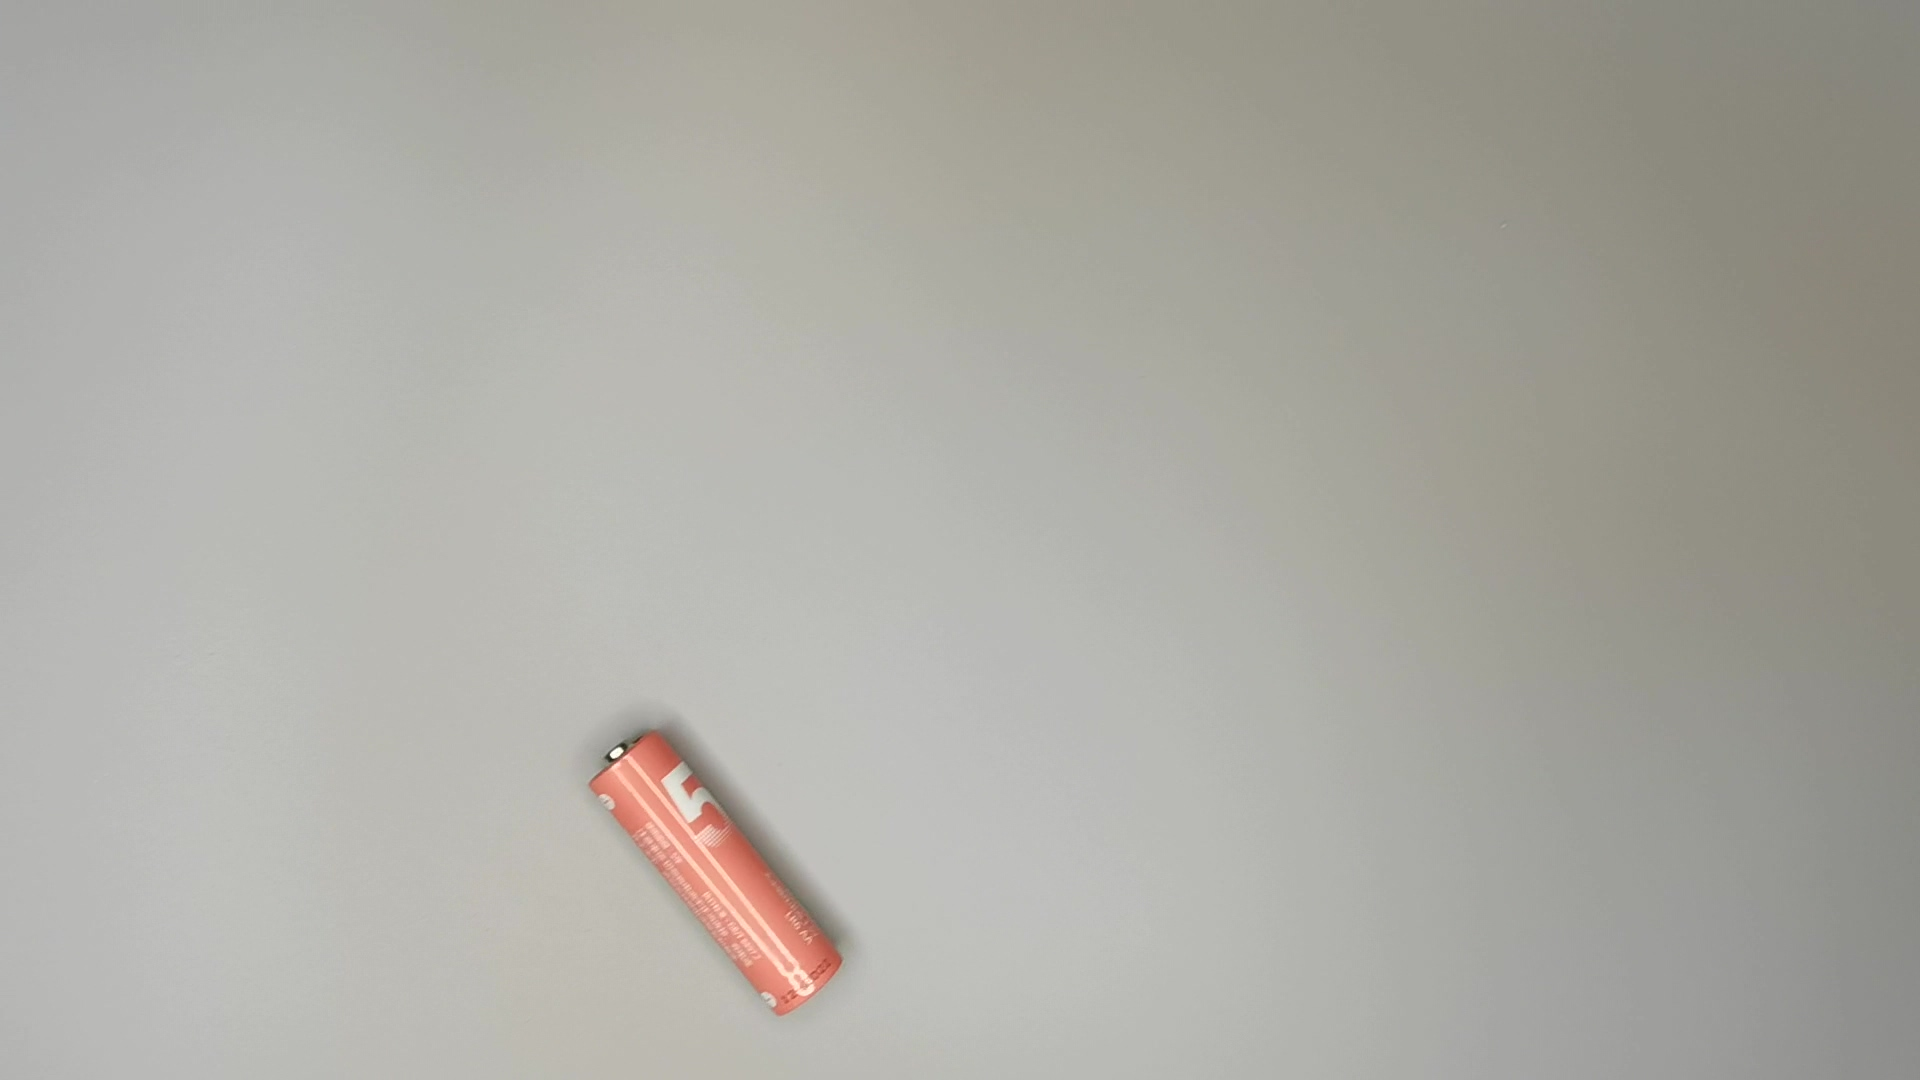battery: (578, 728, 849, 1021)
